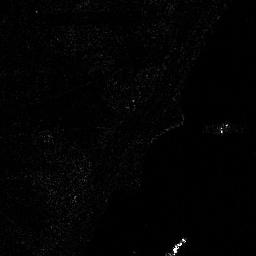ship: (168, 237, 185, 254)
